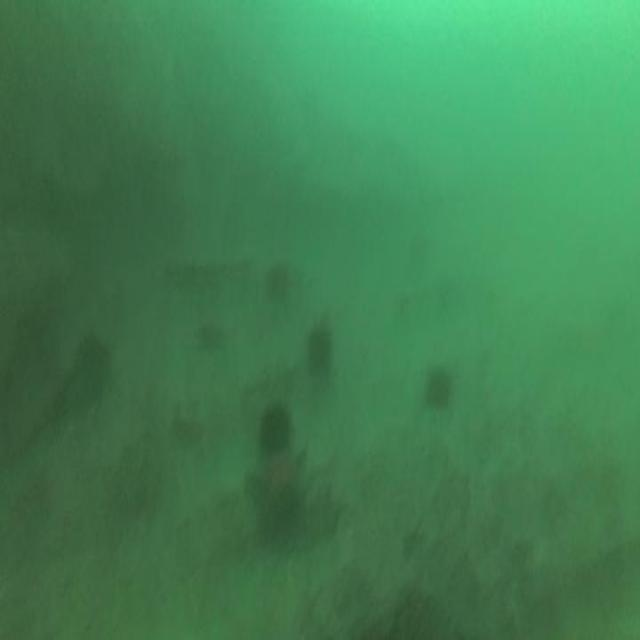echinus: (72, 335, 111, 403), (258, 401, 290, 452), (309, 324, 332, 376), (425, 365, 448, 405), (266, 259, 287, 294)
scallop: (248, 440, 309, 540)
